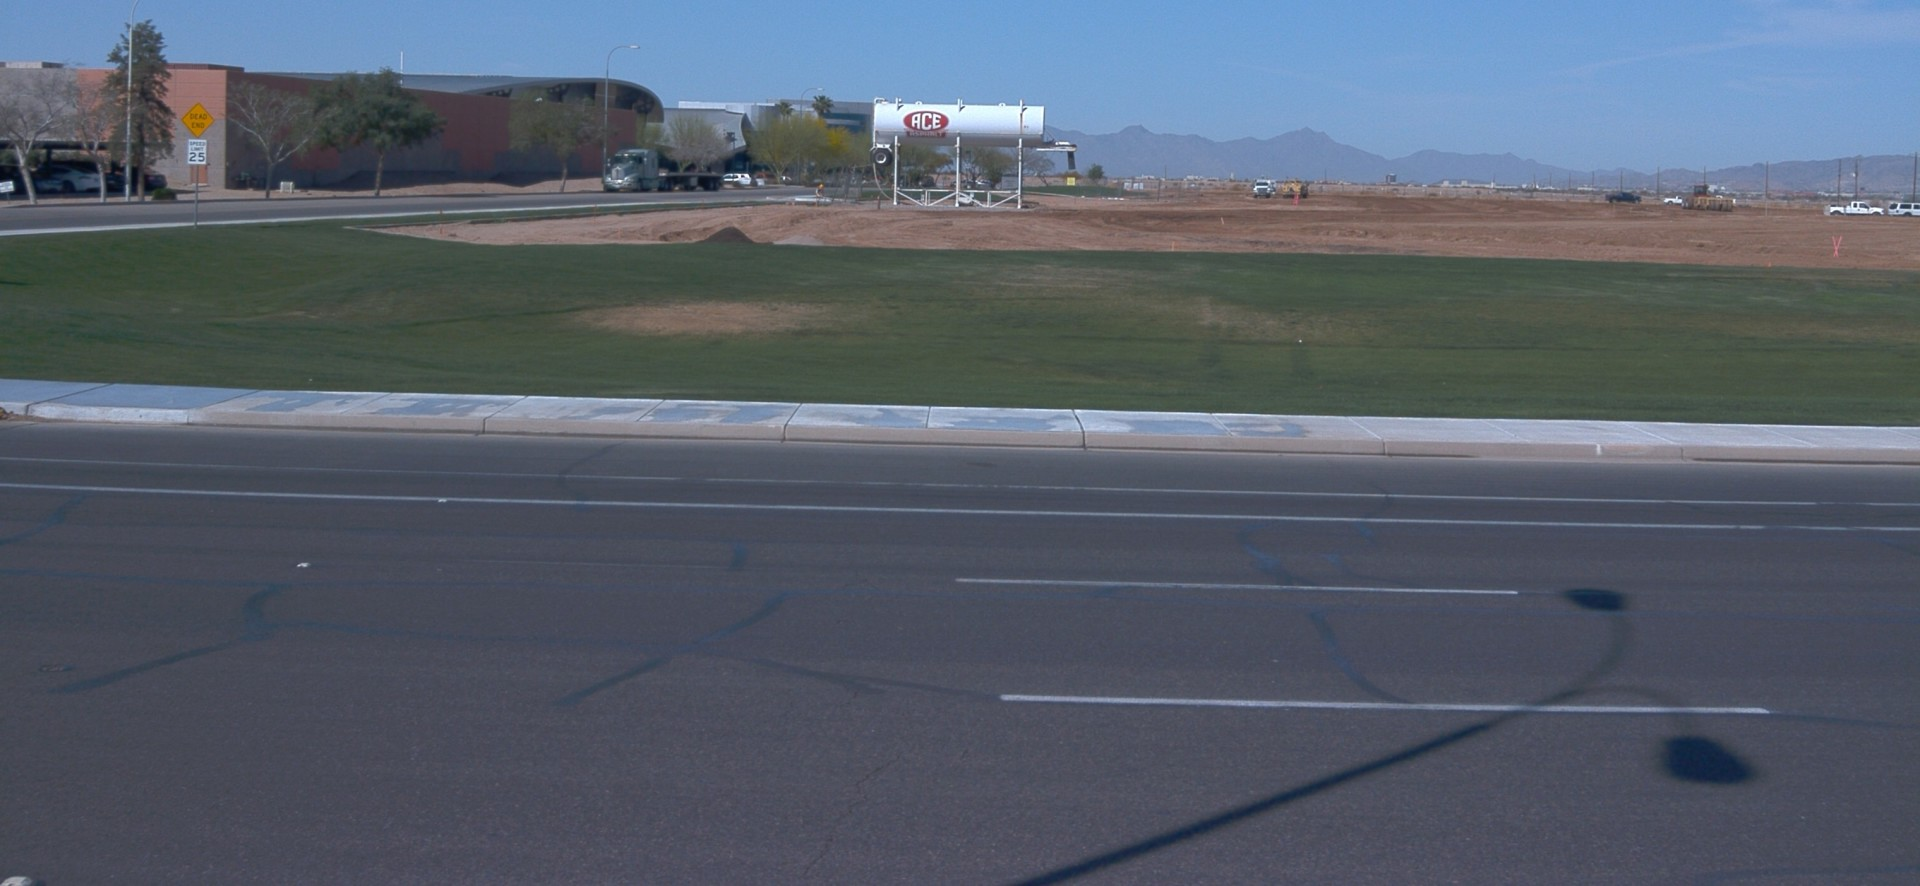TYPE_VEHICLE: (602, 148, 725, 195), (602, 148, 725, 195), (602, 148, 725, 195), (602, 148, 725, 195), (45, 157, 127, 192), (45, 157, 127, 192), (45, 157, 127, 192), (45, 157, 127, 192), (0, 163, 64, 198), (0, 163, 64, 198), (0, 163, 64, 198), (0, 163, 64, 198), (36, 164, 102, 195), (36, 164, 102, 195), (36, 164, 102, 195), (36, 164, 102, 195), (1680, 184, 1736, 210), (1680, 184, 1736, 210), (1680, 184, 1736, 210), (1680, 184, 1736, 210), (118, 169, 168, 190), (118, 169, 168, 190), (118, 169, 168, 190), (118, 169, 168, 190), (1828, 201, 1884, 217), (1828, 201, 1884, 217), (1828, 201, 1884, 217), (1828, 201, 1884, 217), (1281, 177, 1313, 198), (1281, 177, 1313, 198), (1281, 177, 1313, 198), (1281, 177, 1313, 198), (1888, 201, 1920, 218), (1888, 201, 1920, 218), (1888, 201, 1920, 218), (1888, 201, 1920, 218), (1253, 177, 1272, 198), (1253, 177, 1272, 198), (1253, 177, 1272, 198), (1253, 177, 1272, 198), (1604, 192, 1644, 202), (1604, 192, 1644, 202), (1604, 192, 1644, 202), (1604, 192, 1644, 202), (724, 174, 753, 185), (724, 174, 753, 185), (724, 174, 753, 185), (724, 174, 753, 185), (1717, 192, 1738, 202), (1664, 193, 1685, 203), (1717, 192, 1738, 202), (1664, 193, 1685, 203), (1717, 192, 1738, 202), (1664, 193, 1685, 203), (1717, 192, 1738, 202), (1664, 193, 1685, 203), (782, 176, 791, 180), (782, 176, 791, 180), (782, 176, 791, 180), (782, 176, 791, 180)
